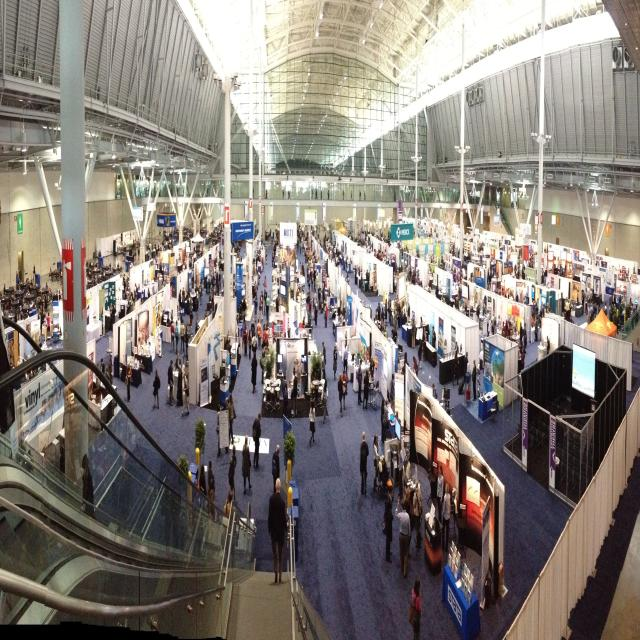body: (434, 219, 640, 387), (296, 218, 434, 326), (0, 263, 64, 464), (86, 228, 161, 364), (161, 218, 224, 335), (252, 223, 297, 289), (268, 476, 289, 584), (231, 240, 249, 322), (395, 496, 411, 580), (223, 489, 240, 567), (259, 319, 277, 384), (408, 576, 422, 640), (82, 453, 95, 520), (442, 482, 452, 554), (360, 431, 370, 495), (242, 434, 252, 495), (227, 444, 237, 502), (413, 480, 422, 544), (252, 412, 262, 469), (404, 485, 412, 555), (226, 392, 236, 444), (373, 434, 381, 488), (206, 460, 215, 508), (387, 486, 393, 556), (437, 464, 444, 524), (181, 371, 190, 416), (272, 444, 280, 494), (152, 369, 161, 410), (308, 400, 316, 446), (206, 486, 217, 519), (382, 397, 390, 442), (398, 440, 404, 500), (250, 351, 258, 394), (167, 359, 174, 407), (462, 349, 470, 391), (362, 368, 370, 409), (341, 189, 366, 202), (224, 328, 233, 364), (321, 378, 328, 424), (294, 358, 302, 398), (452, 348, 460, 387), (176, 363, 183, 407), (292, 369, 298, 419), (357, 357, 363, 406), (198, 464, 207, 496), (338, 372, 344, 418), (282, 374, 288, 419), (216, 404, 221, 458), (342, 370, 348, 410), (126, 362, 132, 402), (310, 187, 330, 199), (404, 352, 411, 386), (174, 319, 180, 356), (242, 321, 248, 357), (332, 344, 338, 380), (180, 318, 186, 354), (389, 373, 395, 409), (343, 342, 348, 384), (422, 326, 428, 361), (256, 318, 262, 350), (381, 397, 385, 444), (185, 324, 190, 358), (472, 359, 476, 401), (147, 186, 161, 198), (312, 294, 318, 320), (411, 318, 416, 349), (391, 323, 398, 345), (175, 351, 182, 372), (275, 296, 280, 325), (252, 331, 258, 355), (253, 295, 258, 323), (265, 294, 270, 322), (321, 355, 326, 383), (419, 316, 424, 344), (170, 188, 184, 198), (413, 355, 419, 378), (291, 367, 297, 390), (322, 341, 326, 375), (170, 320, 174, 353), (418, 338, 422, 371), (108, 359, 113, 385), (225, 397, 230, 422), (248, 329, 252, 360), (387, 295, 391, 323), (314, 299, 318, 327), (318, 283, 322, 311), (263, 275, 267, 302), (389, 299, 393, 326), (259, 296, 263, 322), (260, 290, 264, 316), (182, 291, 186, 317), (442, 384, 446, 410), (105, 365, 111, 382), (324, 303, 328, 328), (181, 286, 185, 310), (306, 289, 310, 312), (432, 326, 436, 348), (264, 287, 267, 316), (178, 289, 182, 310), (251, 318, 255, 338), (254, 280, 258, 300), (377, 302, 381, 322), (374, 308, 378, 328), (100, 358, 105, 374), (161, 310, 166, 326), (46, 312, 50, 332), (282, 189, 290, 199), (385, 298, 388, 324), (402, 366, 405, 390), (320, 290, 323, 314), (32, 263, 36, 281), (189, 325, 193, 342), (432, 382, 436, 399), (376, 434, 379, 453), (381, 307, 385, 321), (392, 191, 397, 202), (302, 316, 306, 328), (321, 299, 324, 314), (408, 300, 410, 322), (169, 309, 173, 320), (252, 186, 255, 199), (322, 288, 325, 300), (189, 305, 193, 314), (16, 270, 18, 288), (264, 189, 268, 198), (167, 313, 170, 324), (376, 320, 379, 330), (187, 291, 190, 298), (230, 188, 232, 198), (374, 318, 376, 324), (308, 351, 310, 356)
